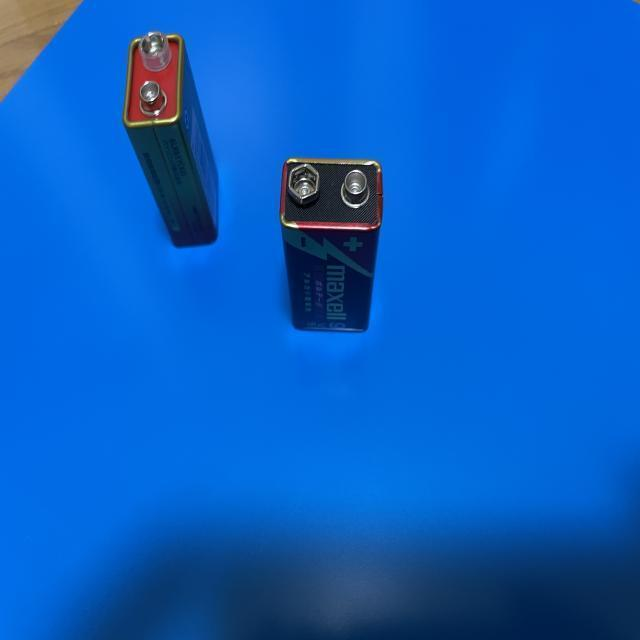9V: (121, 30, 218, 250), (280, 159, 385, 333)
